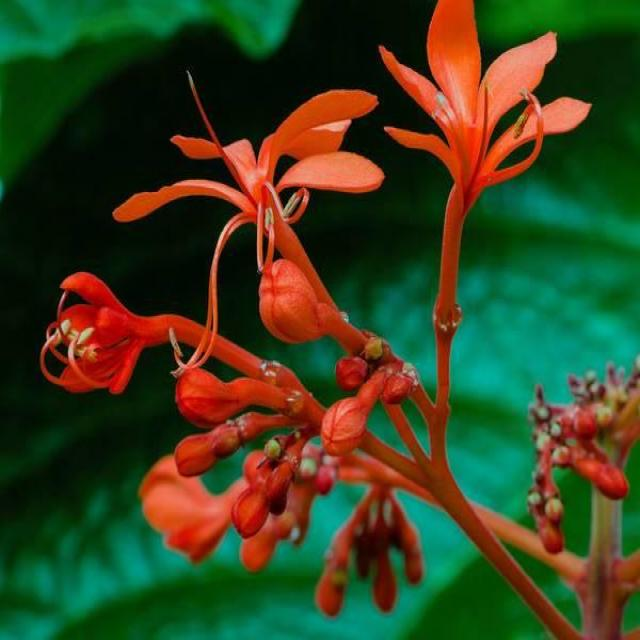organic waste: (55, 266, 478, 563), (158, 93, 396, 370), (390, 23, 586, 344)
